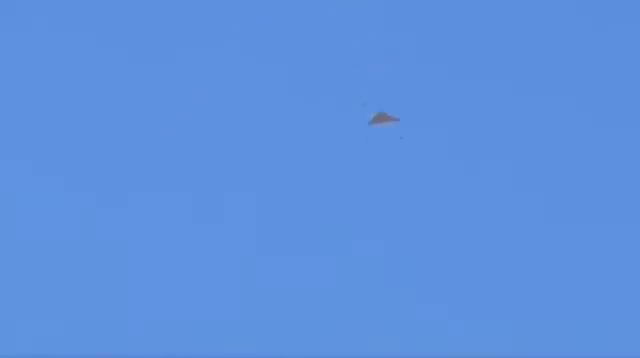shahed: (367, 110, 400, 127)
